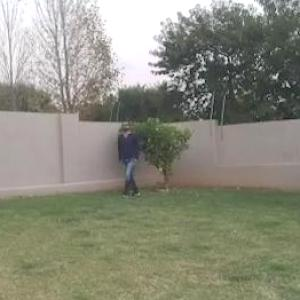follow: (119, 117, 140, 200)
